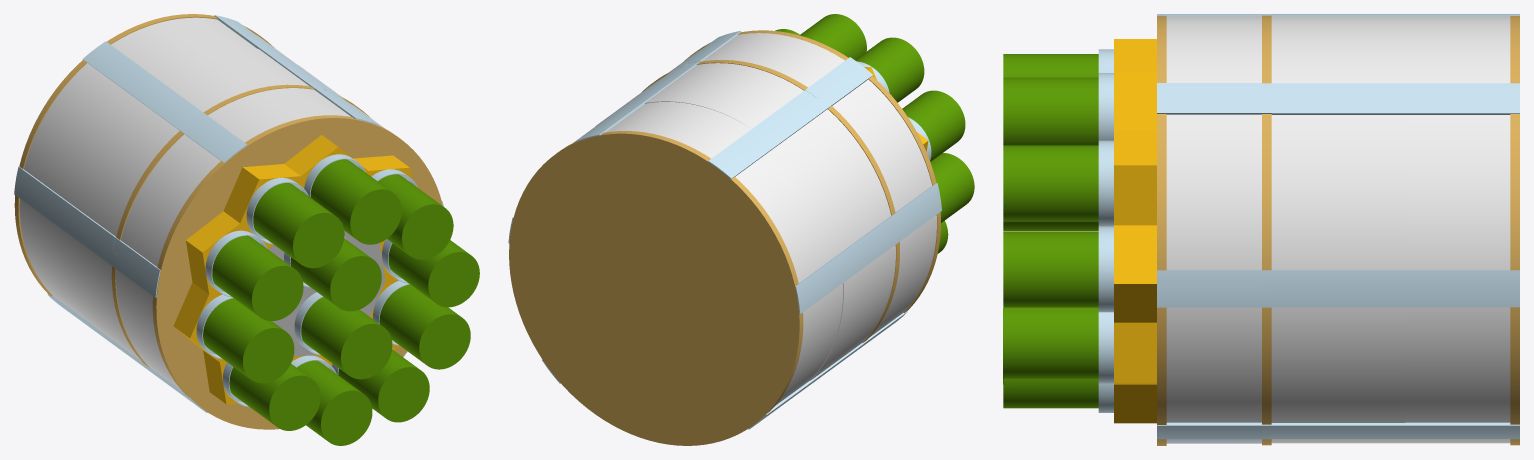
Rendered from machine.gltf.
The picture shows the model from 3 angles, left to right: view 1: azimuth 30°, elevation 25°; view 2: azimuth 150°, elevation 25°; view 3: azimuth 270°, elevation 25°; orthographic projection. The views are drawn at different scales.
Parts seen in each view (by area): view 1: Part 3 (×6), Plaque (×3), Part 1 (×12), Part 6 (×6), cuve6, cuve11, cuve7, cuve2, cuve4, cuve12, cuve3, cuve5 (+5 smaller); view 2: Plaque (×3), Part 3 (×6), Part 1 (×7), cuve6, cuve11, cuve7, cuve4; view 3: Part 3 (×6), Part 1 (×11), Part 6 (×6), Plaque (×3), cuve3, cuve9, cuve2, cuve4, cuve1, cuve11, Part 4, cuve7.
Part boxes in pixels (box(x1,y1,x2,y2)): Part 3 (×6): box(19, 17, 350, 390); Plaque (×3): box(14, 14, 442, 429); Part 1 (×12): box(14, 15, 378, 376); Part 6 (×6): box(173, 135, 411, 404); cuve6: box(212, 235, 303, 320); cuve11: box(253, 183, 344, 268); cuve7: box(203, 298, 294, 383); cuve2: box(379, 284, 470, 369); cuve4: box(310, 159, 401, 244); cuve12: box(301, 297, 392, 379); cuve3: box(388, 240, 479, 307); cuve5: box(229, 364, 320, 430); Plaque (×3): box(509, 30, 940, 445); Part 3 (×6): box(606, 33, 936, 405); Part 1 (×7): box(576, 31, 941, 429); cuve6: box(902, 90, 965, 161); cuve11: box(855, 37, 924, 102); cuve7: box(930, 153, 974, 222); cuve4: box(799, 14, 866, 59); Part 3 (×6): box(1166, 16, 1510, 422); Part 1 (×11): box(1098, 14, 1519, 439); Part 6 (×6): box(1114, 39, 1156, 423); Plaque (×3): box(1157, 15, 1519, 445); cuve3: box(1003, 231, 1098, 307); cuve9: box(1003, 145, 1098, 221); cuve2: box(1003, 307, 1098, 378); cuve4: box(1003, 77, 1098, 145); cuve1: box(1003, 379, 1098, 408); cuve11: box(1003, 54, 1098, 77); Part 4: box(1271, 439, 1510, 443); cuve7: box(1003, 221, 1098, 230).
Bounding box in the file's own units: 0.4521 × 0.4507 × 0.541.
